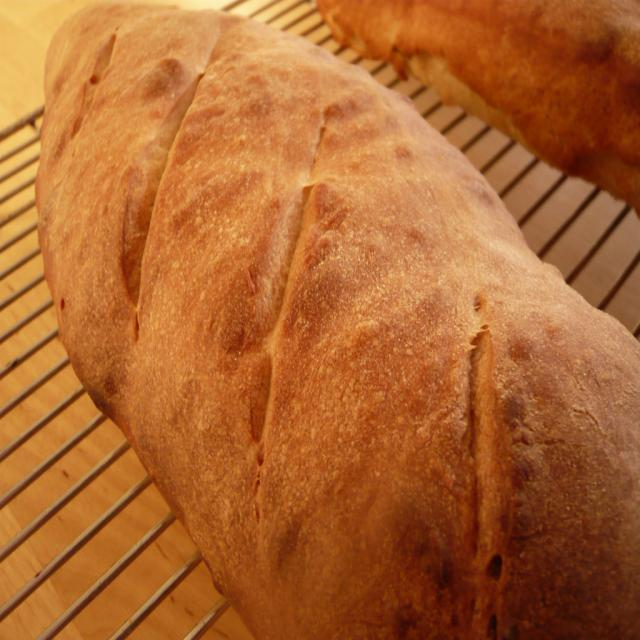Bread: (34, 0, 640, 636), (317, 0, 639, 213)
